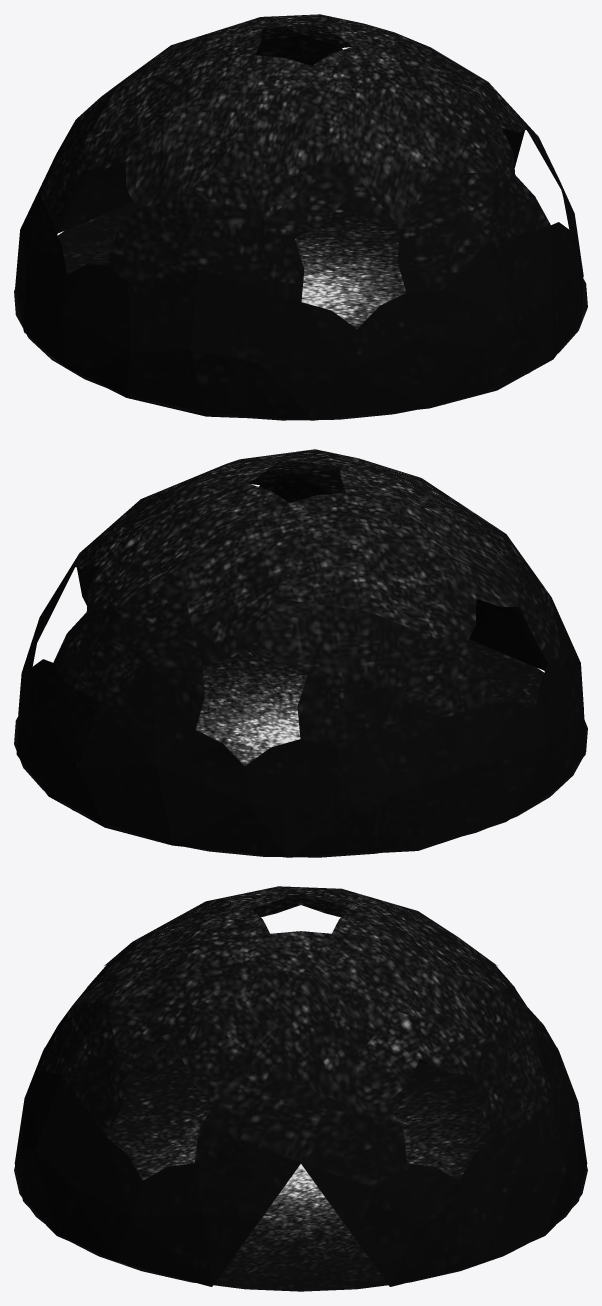
Rendered from black star.dae.
3 renders of one model, top to bottom at view 1: azimuth 30°, elevation 25°; view 2: azimuth 150°, elevation 25°; view 3: azimuth 270°, elevation 25°, orthographic.
Visible parts, largest first — view 1: Icosphere; view 2: Icosphere; view 3: Icosphere.
Boxes of the visible parts, x1,y1,x2,y2 form: Icosphere: (14, 14, 587, 420); Icosphere: (14, 449, 587, 857); Icosphere: (14, 886, 587, 1291).
Bounding box in the file's own units: 1.87 × 1.87 × 0.9335.
1 material, 1 textured.
